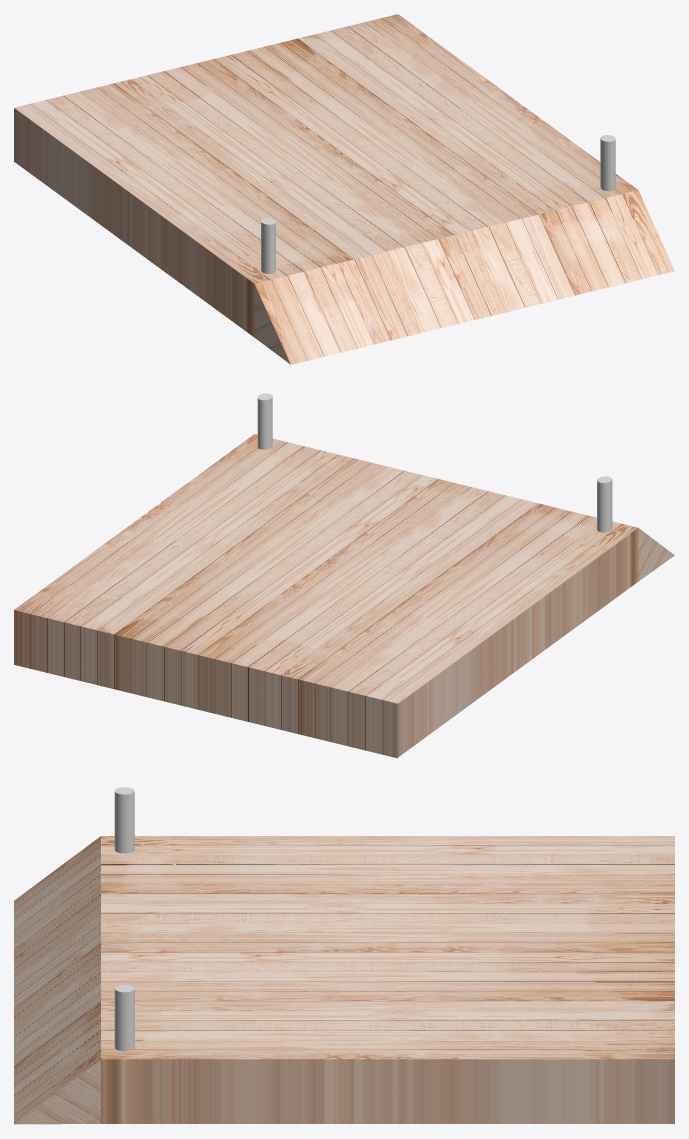
File: tablado3-7.gltf
3 views of the same model, one above another, from view 1: azimuth 30°, elevation 25°; view 2: azimuth 150°, elevation 25°; view 3: azimuth 270°, elevation 25° (orthographic). The views are drawn at different scales.
Parts seen in each view (by area): view 1: Plane, Cylinder.000, Cylinder.002; view 2: Plane, Cylinder.000, Cylinder.002; view 3: Plane, Cylinder.002, Cylinder.000.
Part boxes in pixels (x1,y1,x2,y2): Plane: (14, 14, 674, 364); Cylinder.000: (600, 135, 615, 191); Cylinder.002: (261, 218, 275, 273); Plane: (14, 434, 674, 758); Cylinder.000: (257, 393, 272, 449); Cylinder.002: (597, 476, 612, 532); Plane: (14, 836, 674, 1124); Cylinder.002: (114, 787, 134, 853); Cylinder.000: (114, 985, 134, 1051).
Size of the model in its own units: 2.51 by 0.6501 by 3.13.
3 materials, 1 textured.
